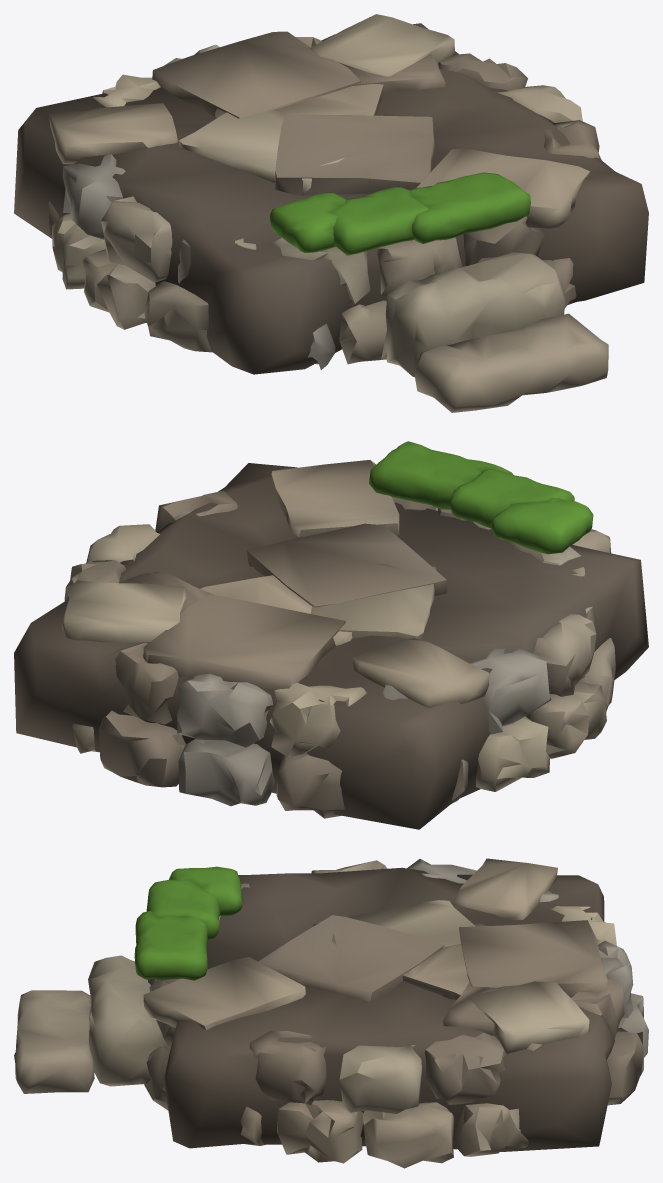
File: glade_portal_plinth_a.glb
3 views of the same model, one above another, from view 1: azimuth 30°, elevation 25°; view 2: azimuth 150°, elevation 25°; view 3: azimuth 270°, elevation 25° (orthographic). The views are drawn at different scales.
Parts seen in each view (by area): view 1: glade_portal_plinth_a; view 2: glade_portal_plinth_a; view 3: glade_portal_plinth_a.
Boxes of the visible parts, x1,y1,x2,y2 form: glade_portal_plinth_a: (14, 14, 648, 412); glade_portal_plinth_a: (14, 441, 648, 829); glade_portal_plinth_a: (14, 858, 648, 1168).
Bounding box in the file's own units: 7.22 × 2.16 × 8.79.
